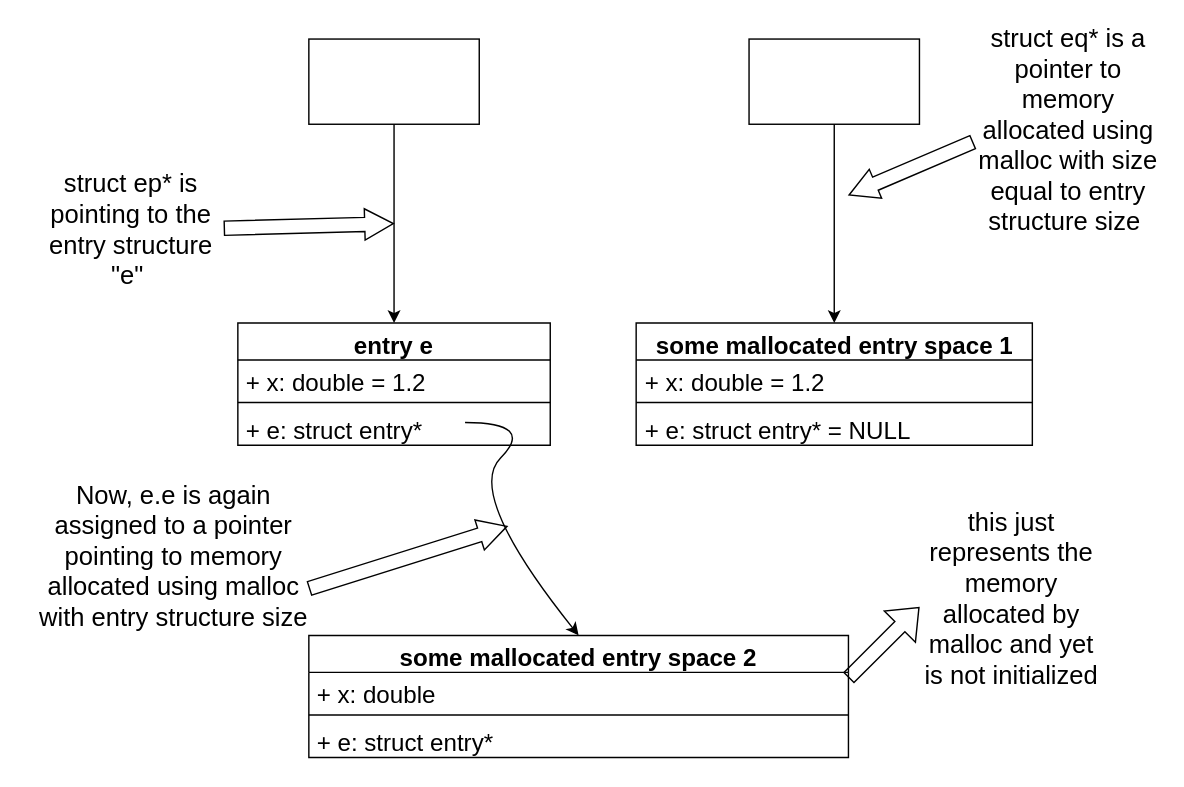
Some shapes in this 1184 by 787 pixel diagram are drawn without their labels. The box of each missing label's shape, as (x1, y1, x2, y2) in pixels:
entry *ep: (307, 38, 479, 124)
entry *eq: (748, 38, 919, 124)
